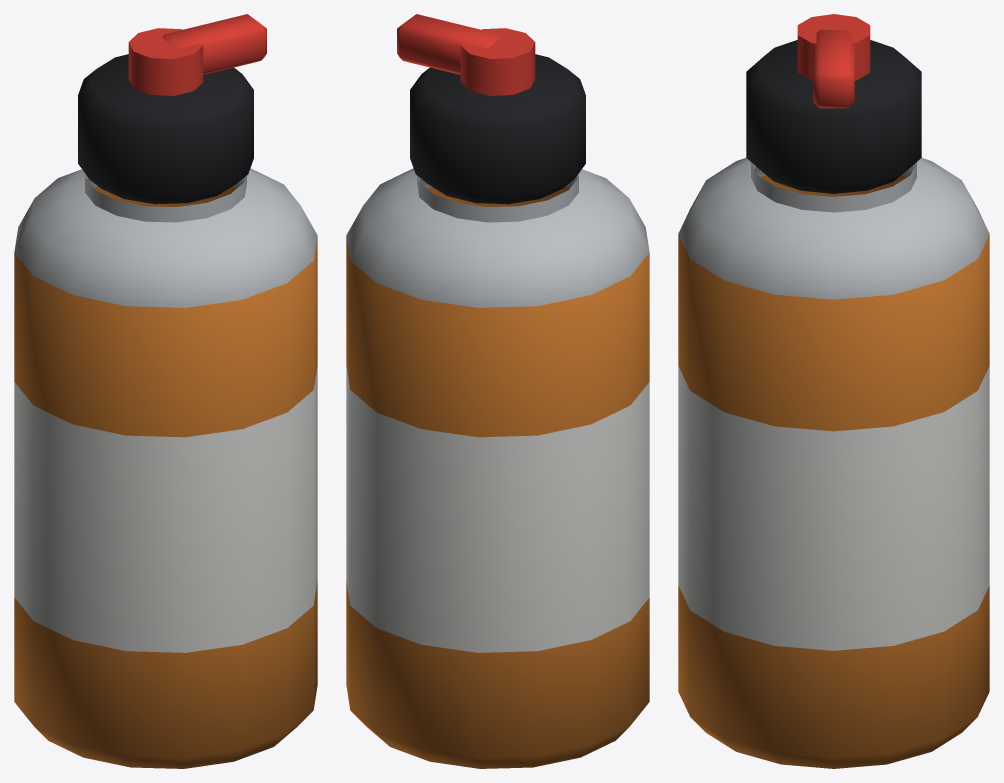
File: SM_SprayCan_01.glb
The picture shows the model from 3 angles, left to right: view 1: azimuth 30°, elevation 25°; view 2: azimuth 150°, elevation 25°; view 3: azimuth 270°, elevation 25°; orthographic projection.
Visible parts, largest first — view 1: SM_SprayCan_01; view 2: SM_SprayCan_01; view 3: SM_SprayCan_01.
Boxes of the visible parts, x1,y1,x2,y2 form: SM_SprayCan_01: [14, 14, 317, 768]; SM_SprayCan_01: [346, 14, 649, 768]; SM_SprayCan_01: [678, 14, 989, 768].
Size of the model in its own units: 0.09 by 0.218 by 0.09.
1 material, 1 textured.
